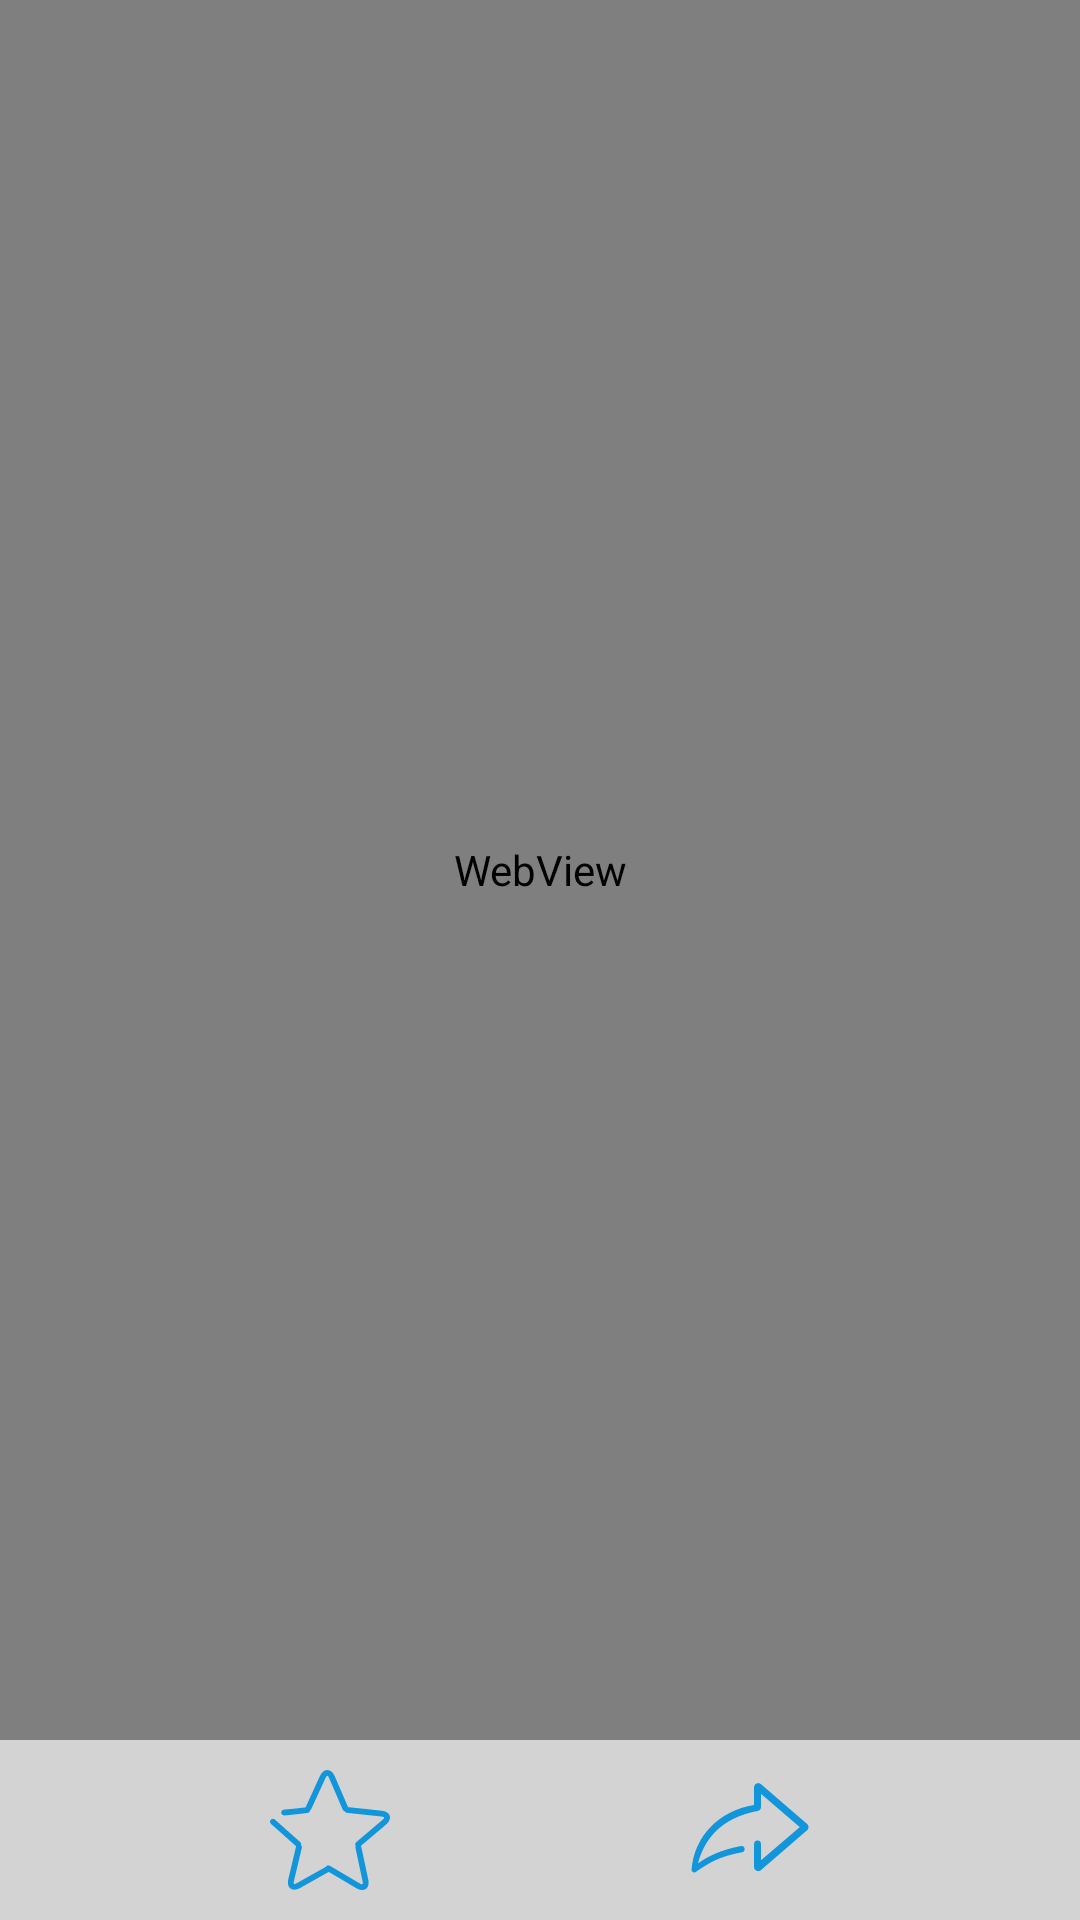

Where to tap for icons on this 1080px×1920px app screen, as (x,y):
favorite: (330,1830)
